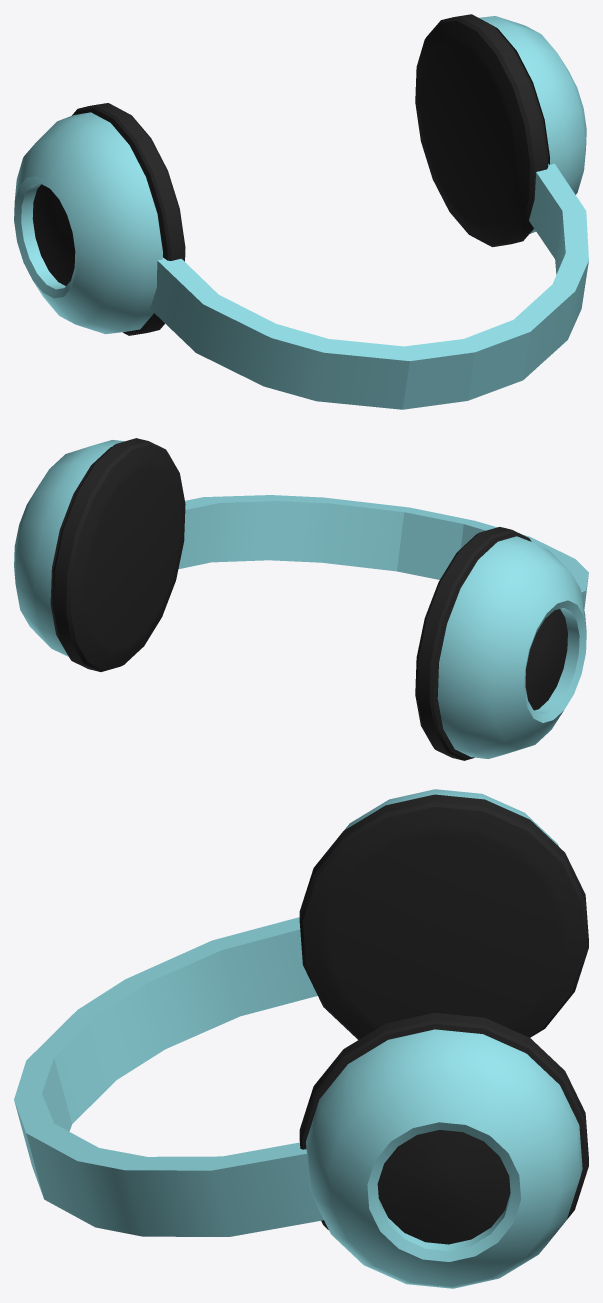
File: HeadphonesGlitched2.fbx
3 views of the same model, one above another, from view 1: azimuth 30°, elevation 25°; view 2: azimuth 150°, elevation 25°; view 3: azimuth 270°, elevation 25° (orthographic). The views are drawn at different scales.
Visible parts, largest first — view 1: Headphones_Glitched; view 2: Headphones_Glitched; view 3: Headphones_Glitched.
Boxes of the visible parts, box(x1,y1,x2,y2) form: Headphones_Glitched: box(14, 14, 588, 409); Headphones_Glitched: box(14, 438, 588, 760); Headphones_Glitched: box(14, 789, 588, 1288).
Size of the model in its own units: 33.59 by 13.46 by 26.64.
